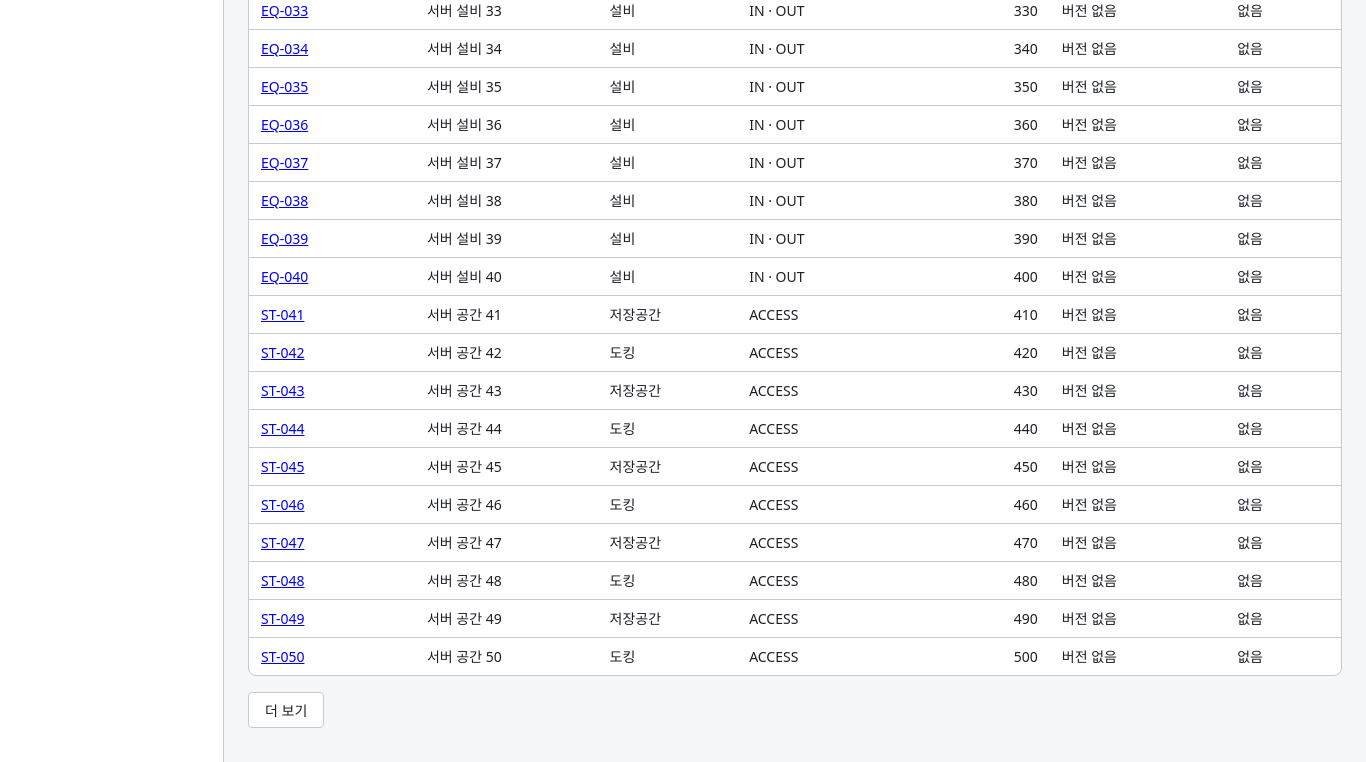
Test case: API 모드: 자산 목록 › 더 보기는 next_cursor로 다음 페이지를 불러온다
(page scrolled)
Click the button "더 보기" at (286, 710), box [248,692,324,728]
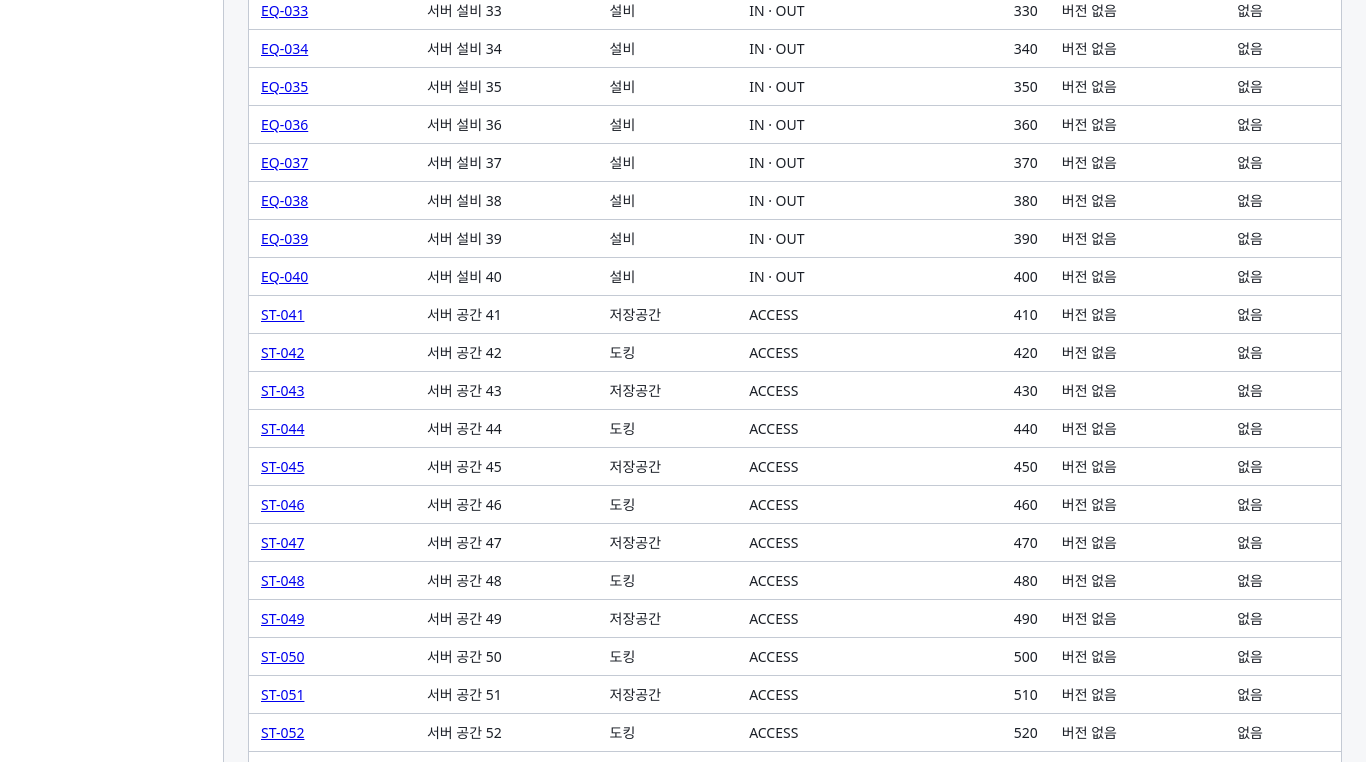
Now the button "더 보기" is gone
